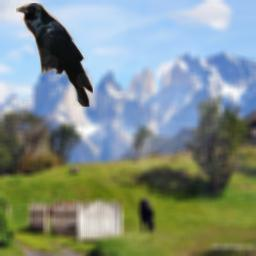Crow: (16, 3, 93, 107)
